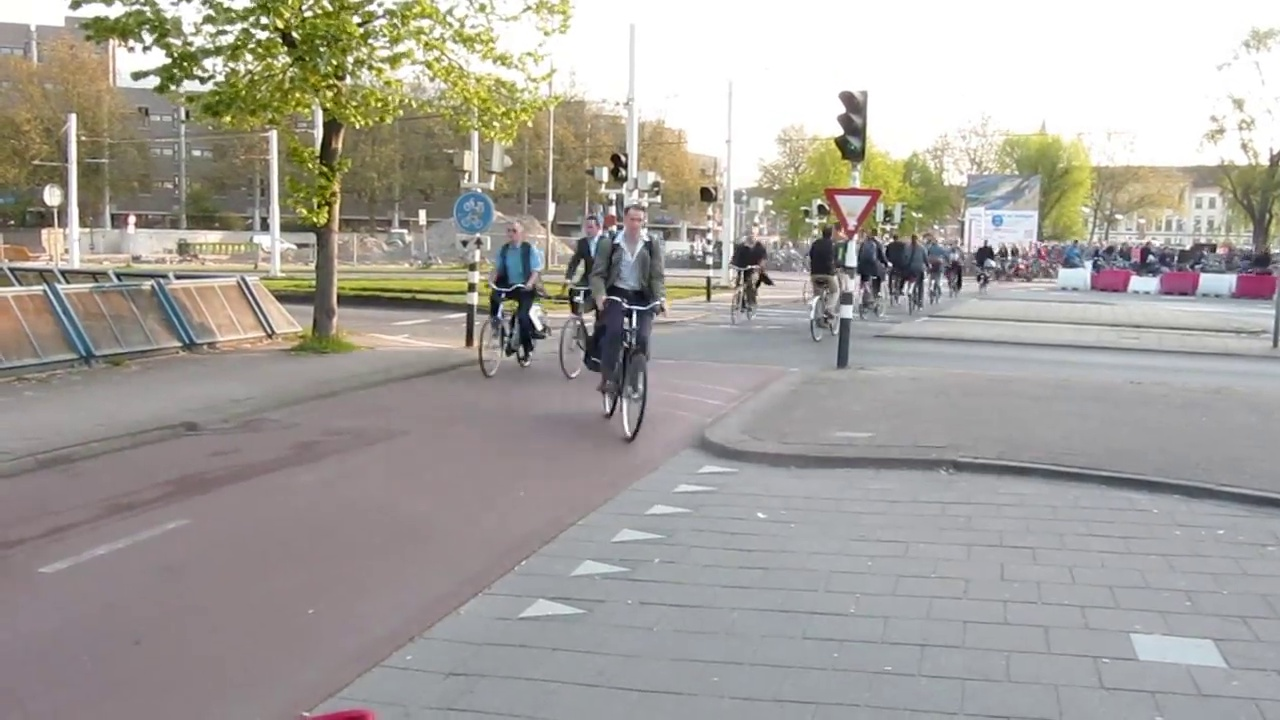cyclist_back: (804, 220, 841, 342), (858, 227, 889, 320), (902, 231, 925, 315), (973, 235, 996, 297), (942, 234, 964, 298), (925, 232, 943, 303)
cyclist_front: (597, 191, 658, 447), (473, 215, 544, 382), (565, 211, 607, 378), (727, 226, 769, 327)
